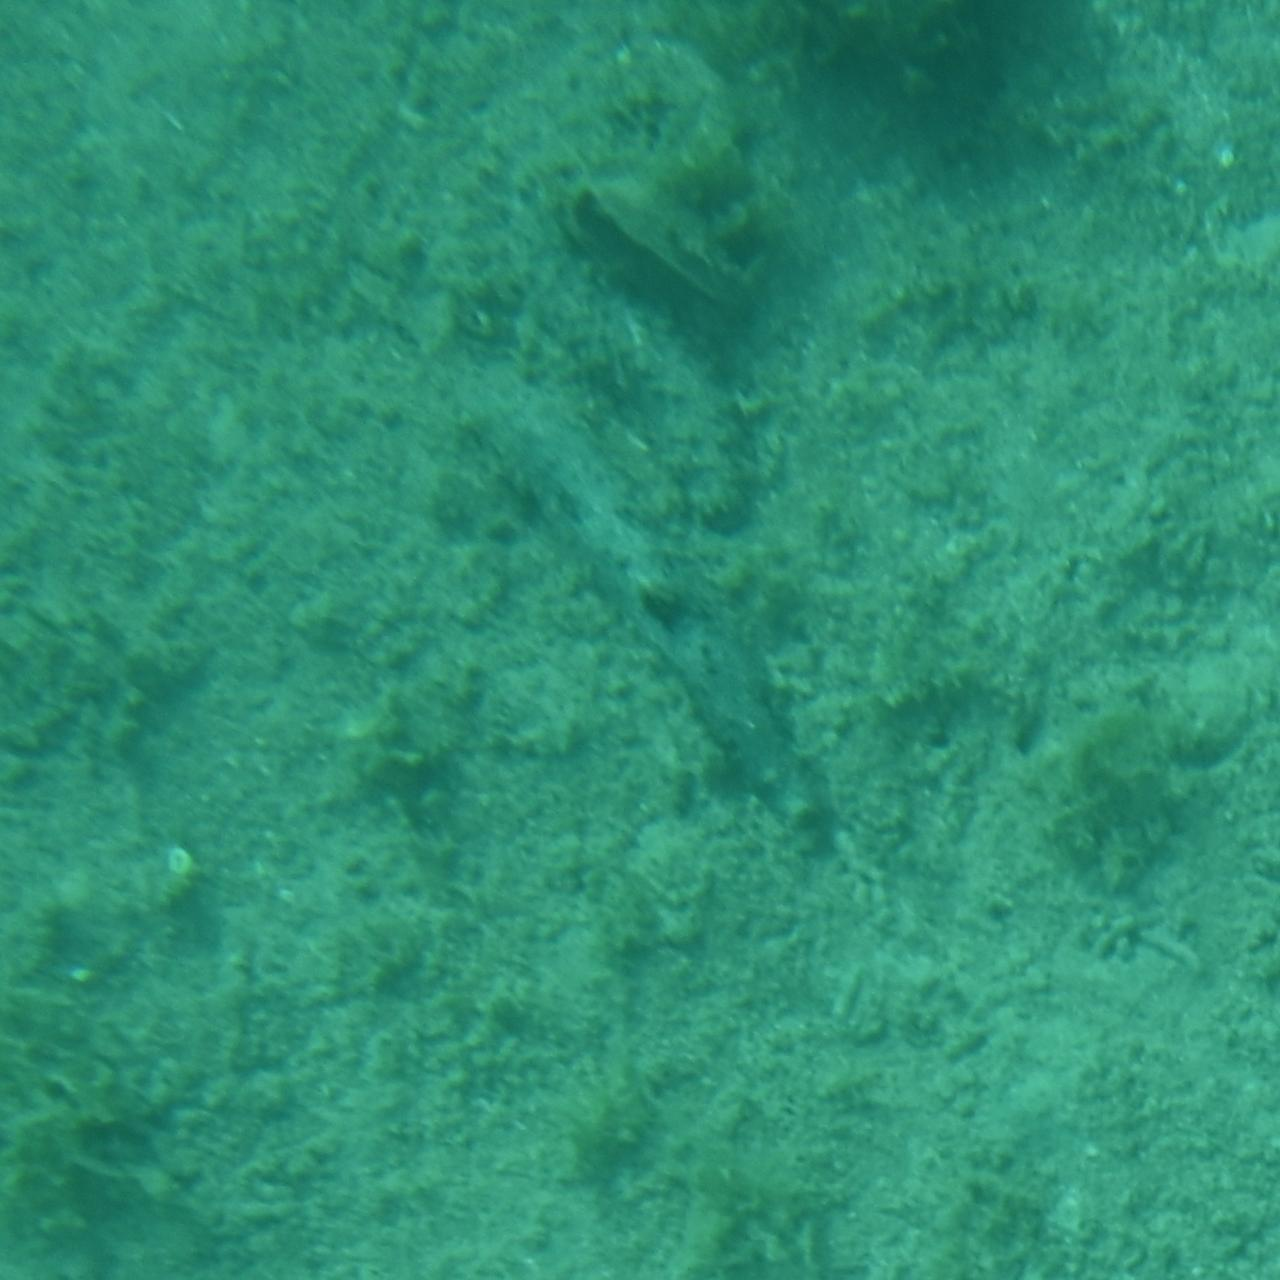Holothuria tubulosa: (461, 389, 881, 860), (447, 26, 772, 538)
